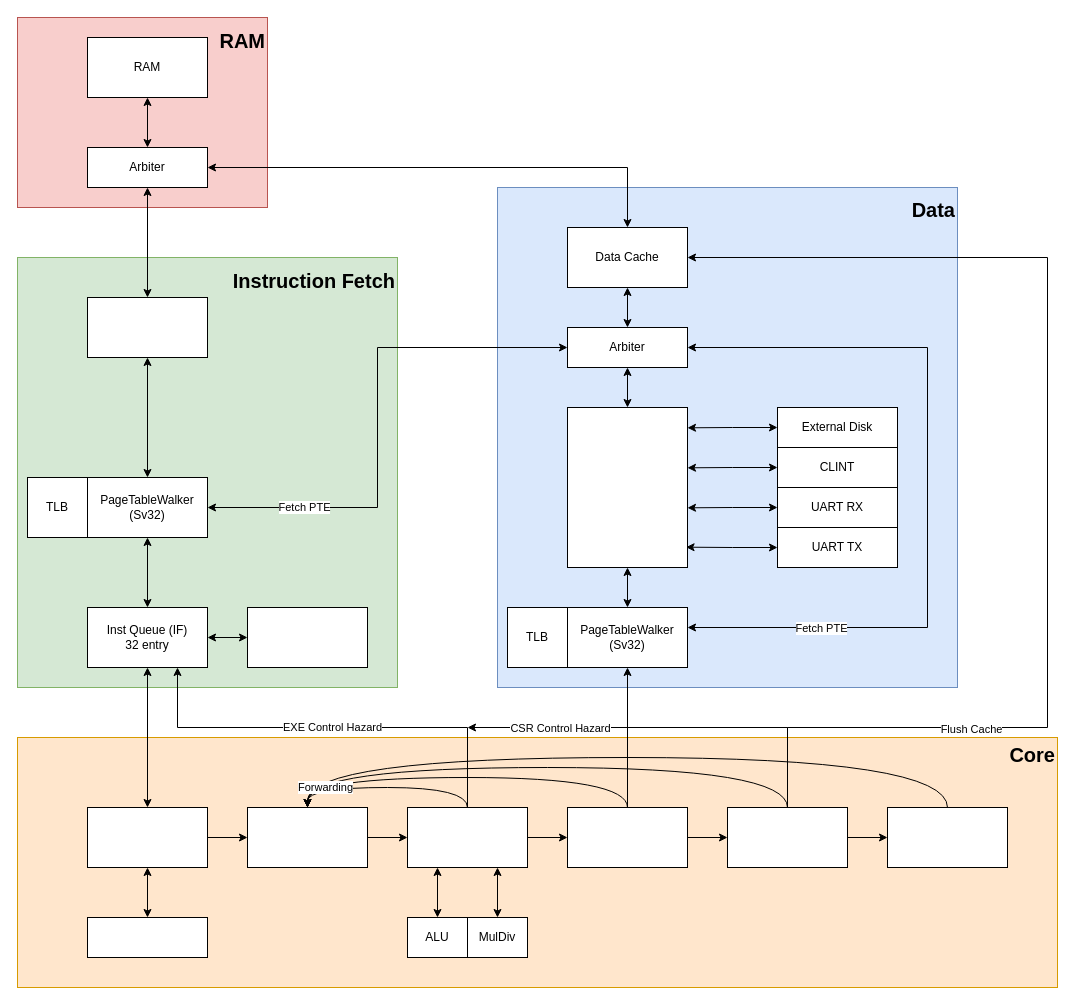
Some shapes in this 1075 by 1005 pixel diagram are drawn without their labels. The shapes that lost their labels are listed below. From the top down, each one's centre as x and y in pixels, then its label:
At (147,327): "Instruction Cache".
At (627,487): "MMIO Controller".
At (307,637): "BTB".
At (147,837): "Decode".
At (307,837): "RegSelect".
At (467,837): "Execute".
At (627,837): "Memory".
At (787,837): "CSR".
At (947,837): "Writeback".
At (147,937): "Decoder".
